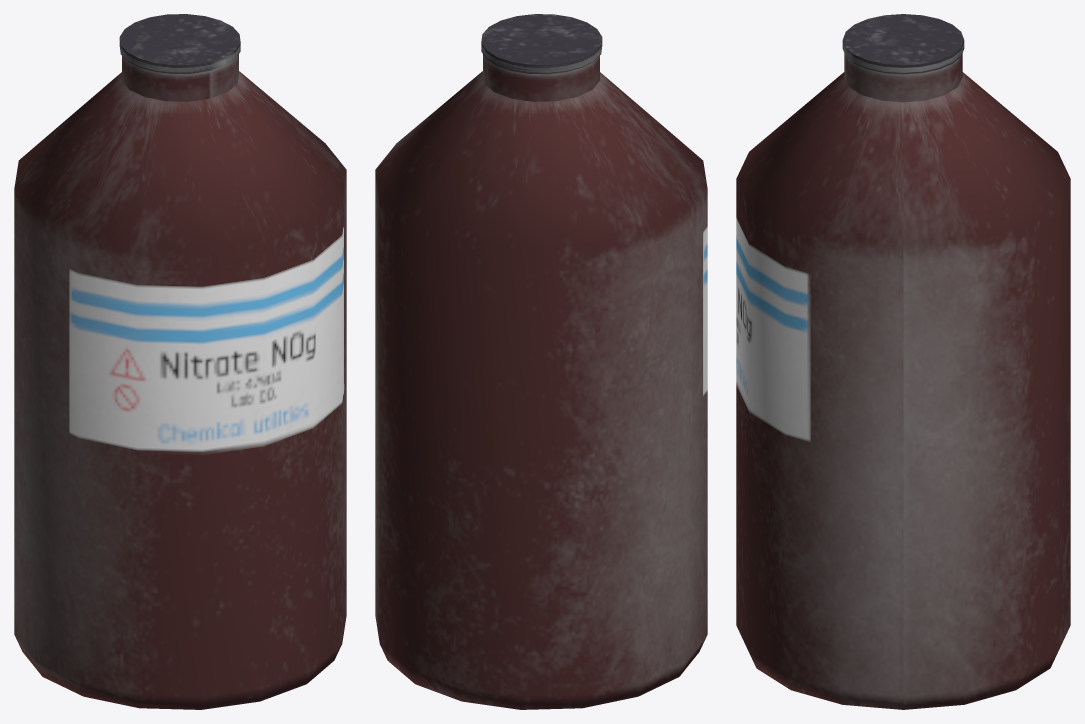
Rendered from SM_Bottle_7.fbx.
The picture shows the model from 3 angles, left to right: view 1: azimuth 30°, elevation 25°; view 2: azimuth 150°, elevation 25°; view 3: azimuth 270°, elevation 25°; orthographic projection.
Visible parts, largest first — view 1: SM_Bottle_7_LOD0; view 2: SM_Bottle_7_LOD0; view 3: SM_Bottle_7_LOD0.
Part boxes in pixels (x1,y1,x2,y2): SM_Bottle_7_LOD0: [14, 14, 346, 709]; SM_Bottle_7_LOD0: [375, 14, 707, 709]; SM_Bottle_7_LOD0: [736, 14, 1070, 709].
Size of the model in its own units: 10 by 10 by 20.13.
Materials: 1 (1 with a texture image).
